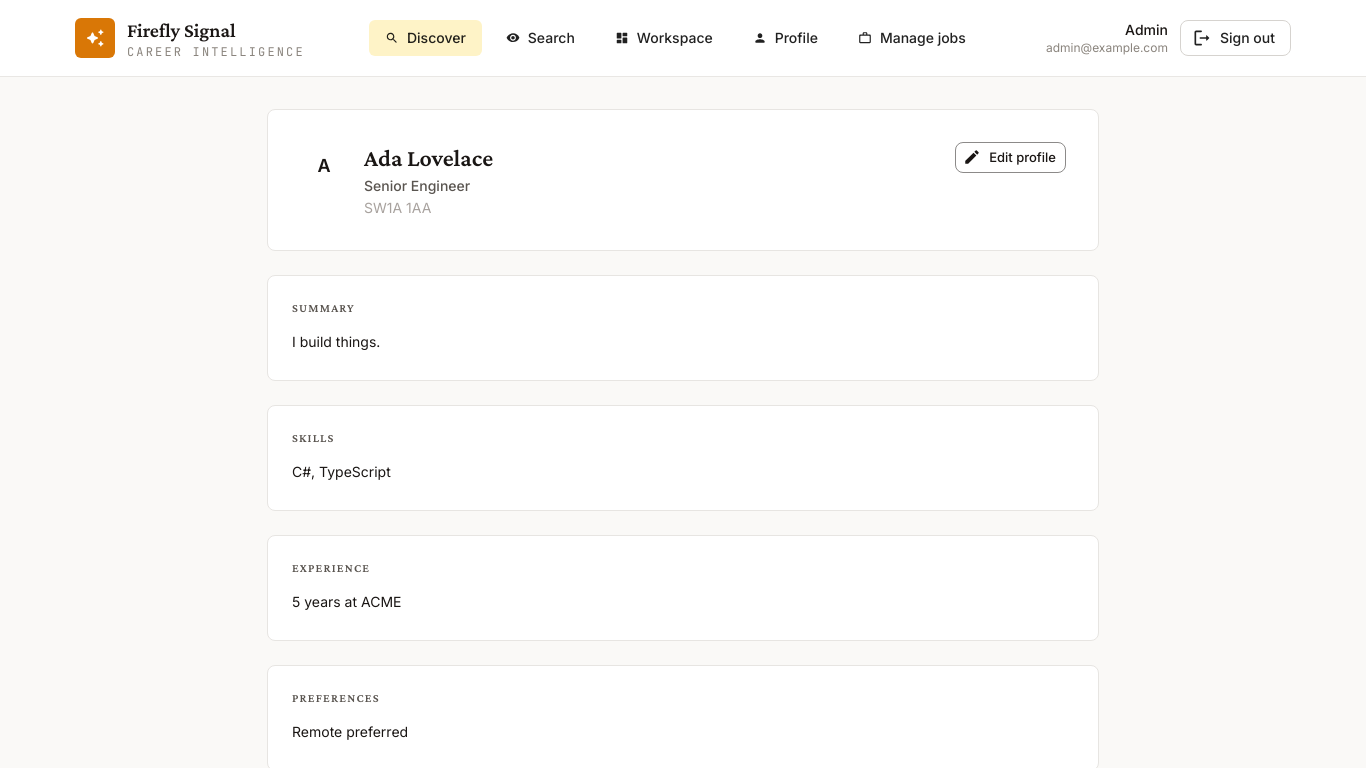
Test: ProfileView › cancels edits and returns to view mode without saving
This screenshot has width=1366, height=768.
Expected: the heading "Ada Lovelace" is shown, x1=364 y1=142 x2=493 y2=174
Click the button "Edit profile" at (1011, 157), box x1=955 y1=142 x2=1066 y2=173
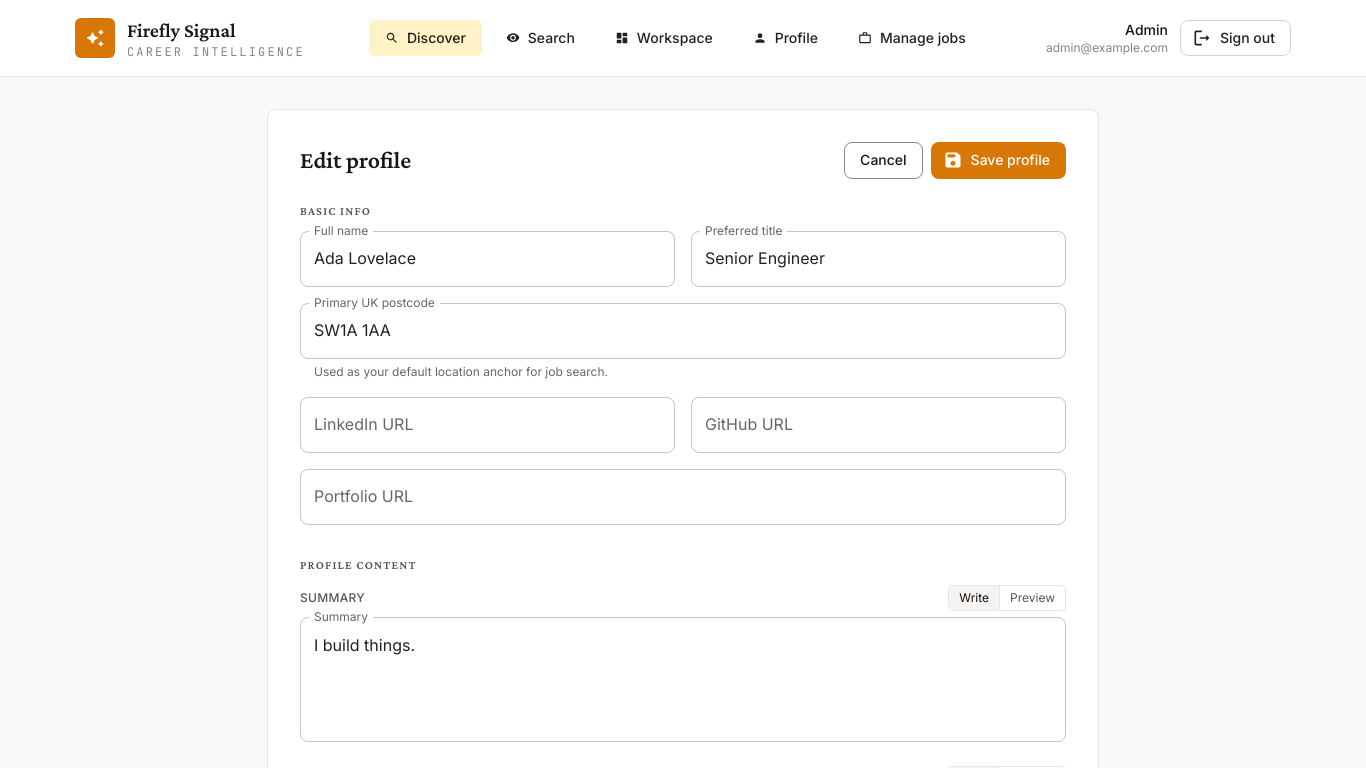
Click the button "Cancel" at (883, 160), box x1=844 y1=142 x2=923 y2=178
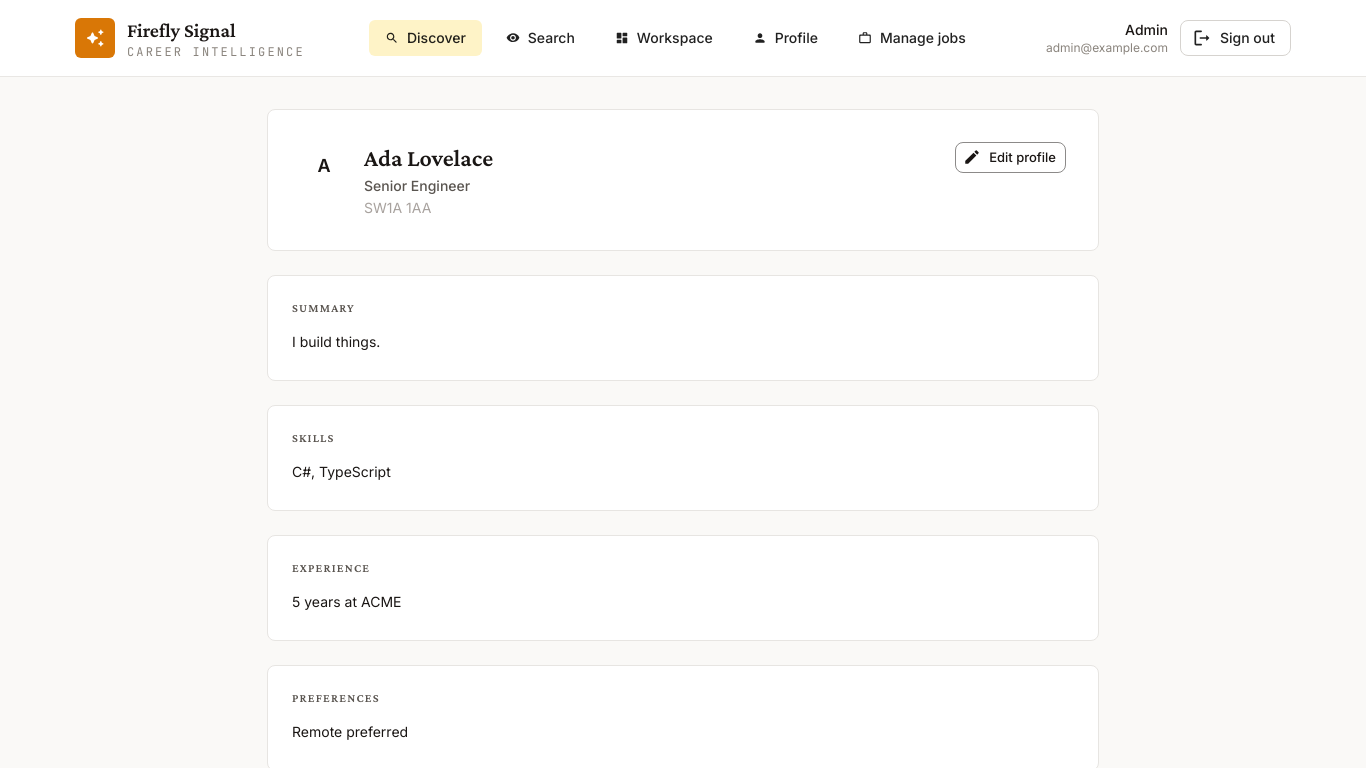
Expected: the heading "Ada Lovelace" is shown, x1=364 y1=142 x2=493 y2=174
